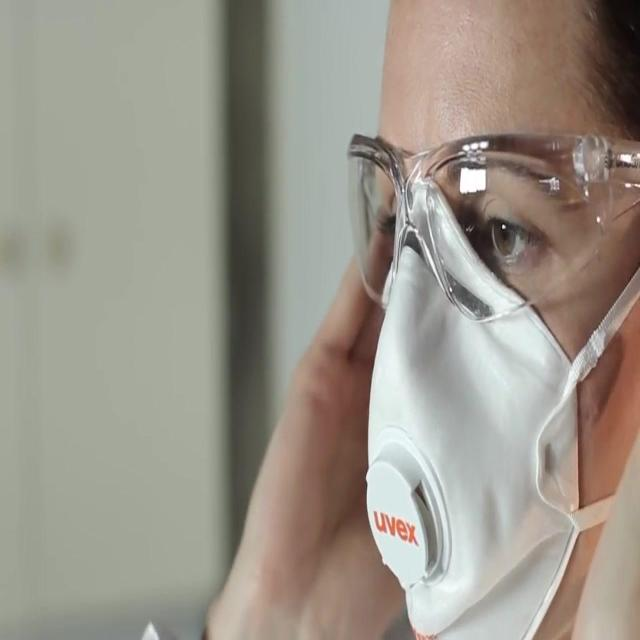Goggles: (309, 122, 640, 304)
Mask: (361, 215, 585, 640)
